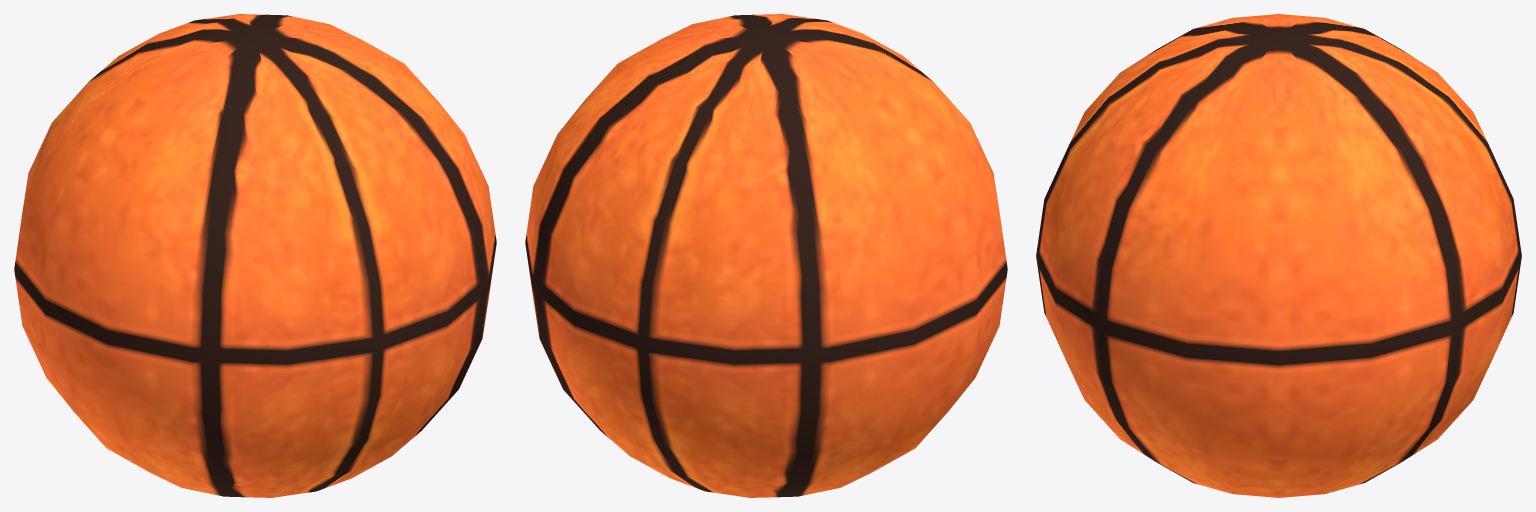
The model's file is basketball-v1.glb.
3 renders of one model, left to right at view 1: azimuth 30°, elevation 25°; view 2: azimuth 150°, elevation 25°; view 3: azimuth 270°, elevation 25°, orthographic.
Parts seen in each view (by area): view 1: basketball-v1; view 2: basketball-v1; view 3: basketball-v1.
Part boxes in pixels (left/top/right/bottom): basketball-v1: left=14, top=14, right=496, bottom=497; basketball-v1: left=525, top=14, right=1007, bottom=497; basketball-v1: left=1036, top=14, right=1521, bottom=497.
Bounding box in the file's own units: 0.24 × 0.24 × 0.24.
1 material, 1 textured.
